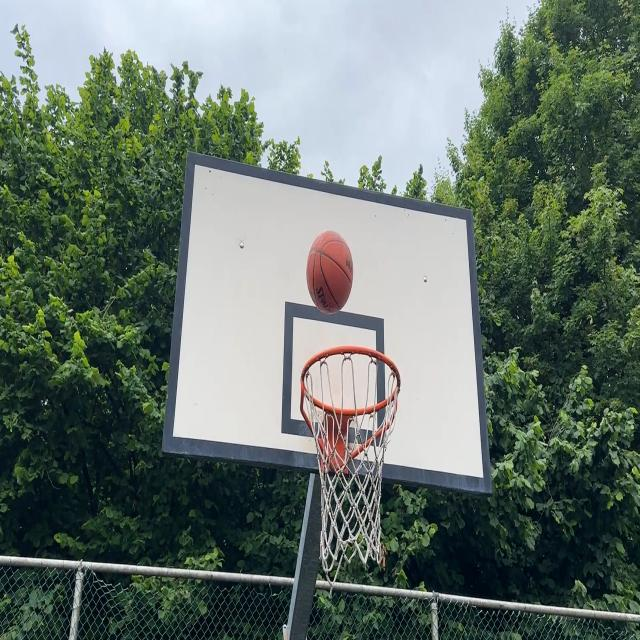Basketball: (306, 231, 354, 313)
